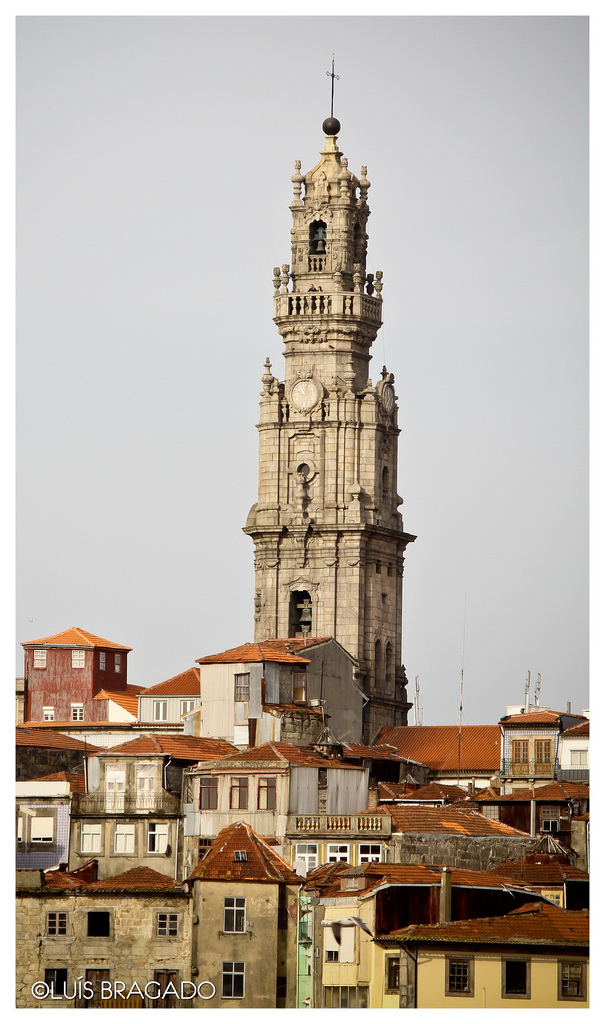clerigos: (241, 55, 415, 750)
